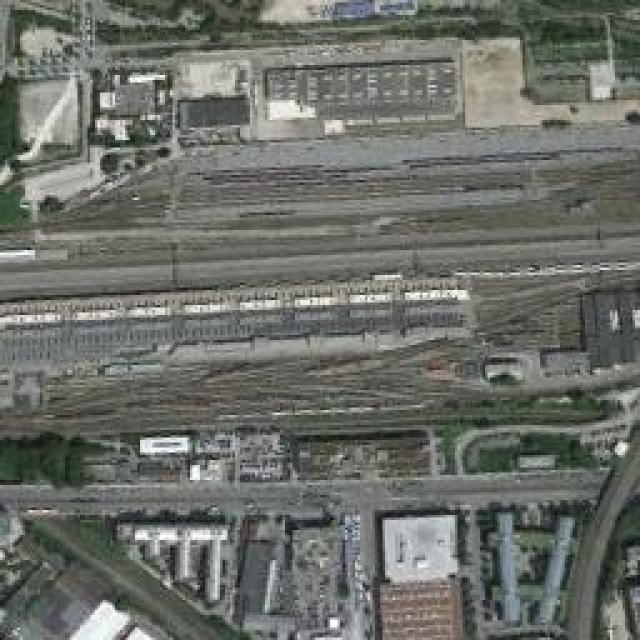Railway: (0, 111, 640, 383)
